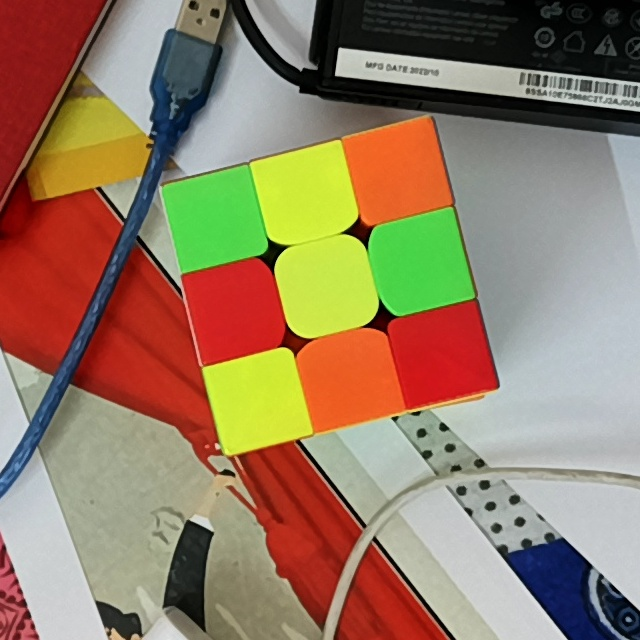tile: (288, 248, 364, 322), (359, 135, 438, 206), (384, 225, 460, 298), (403, 318, 478, 389), (201, 274, 274, 346), (269, 157, 344, 227), (181, 182, 252, 253), (223, 365, 294, 436), (315, 340, 386, 410)
